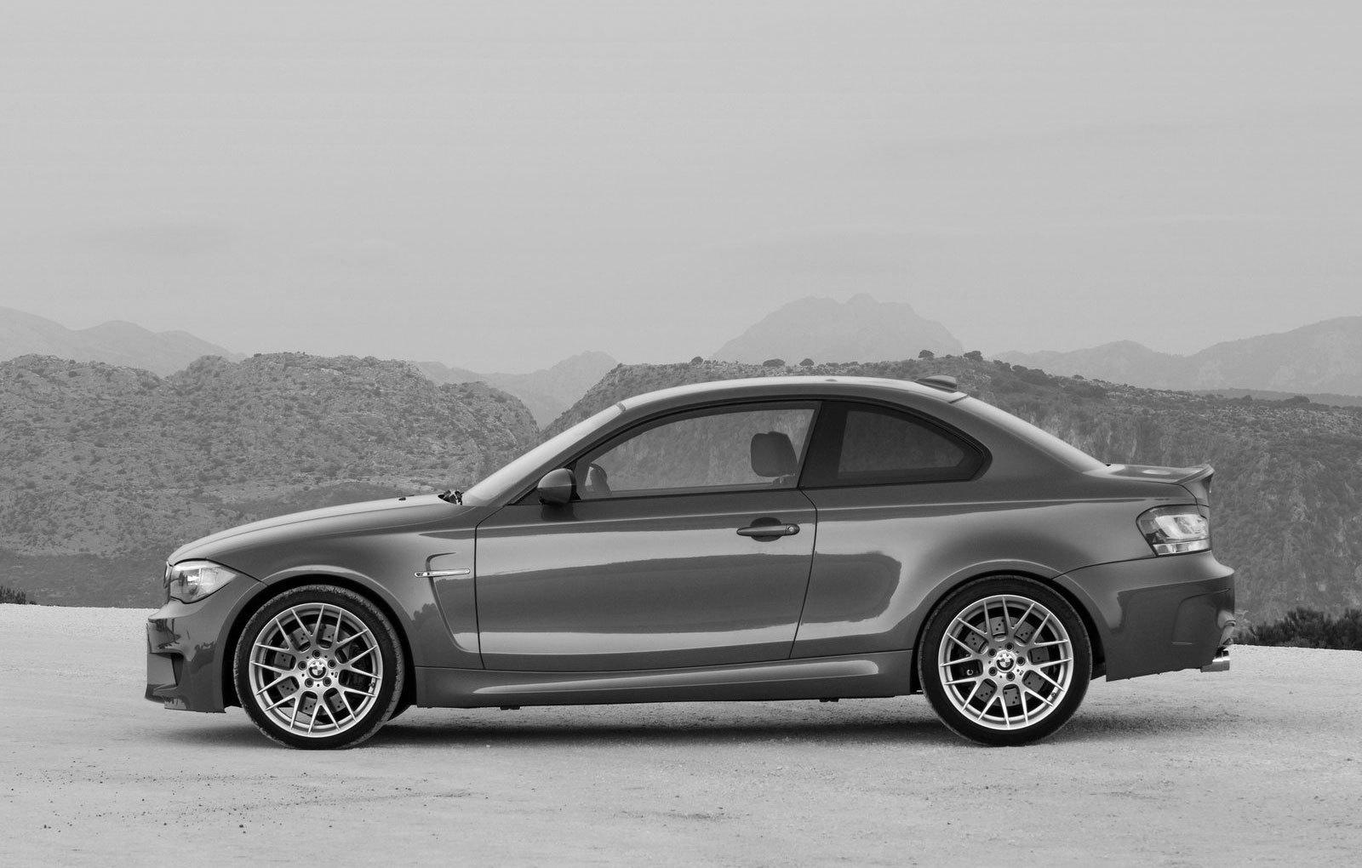car: (135, 368, 1245, 762)
